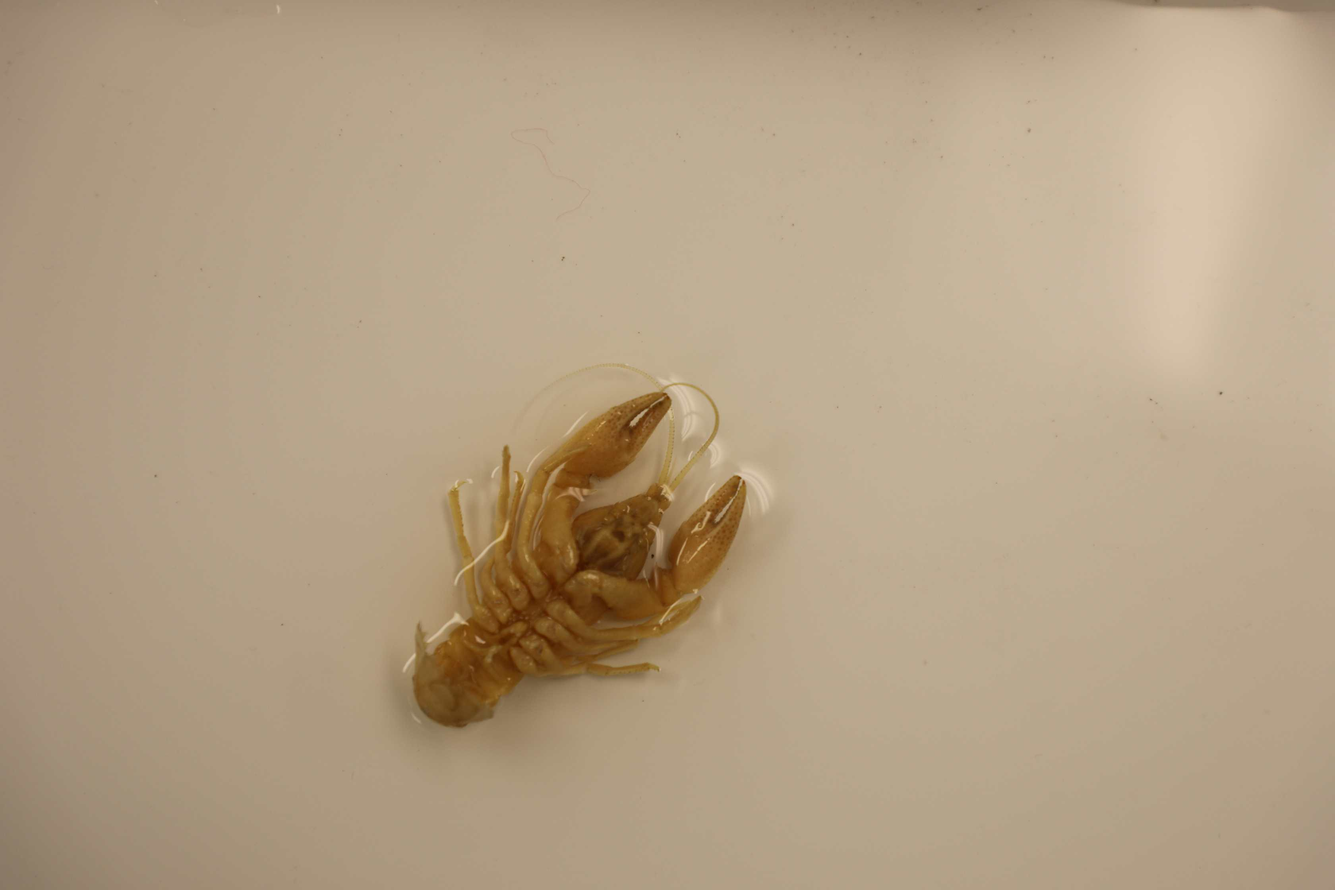Other: (400, 350, 769, 735)
